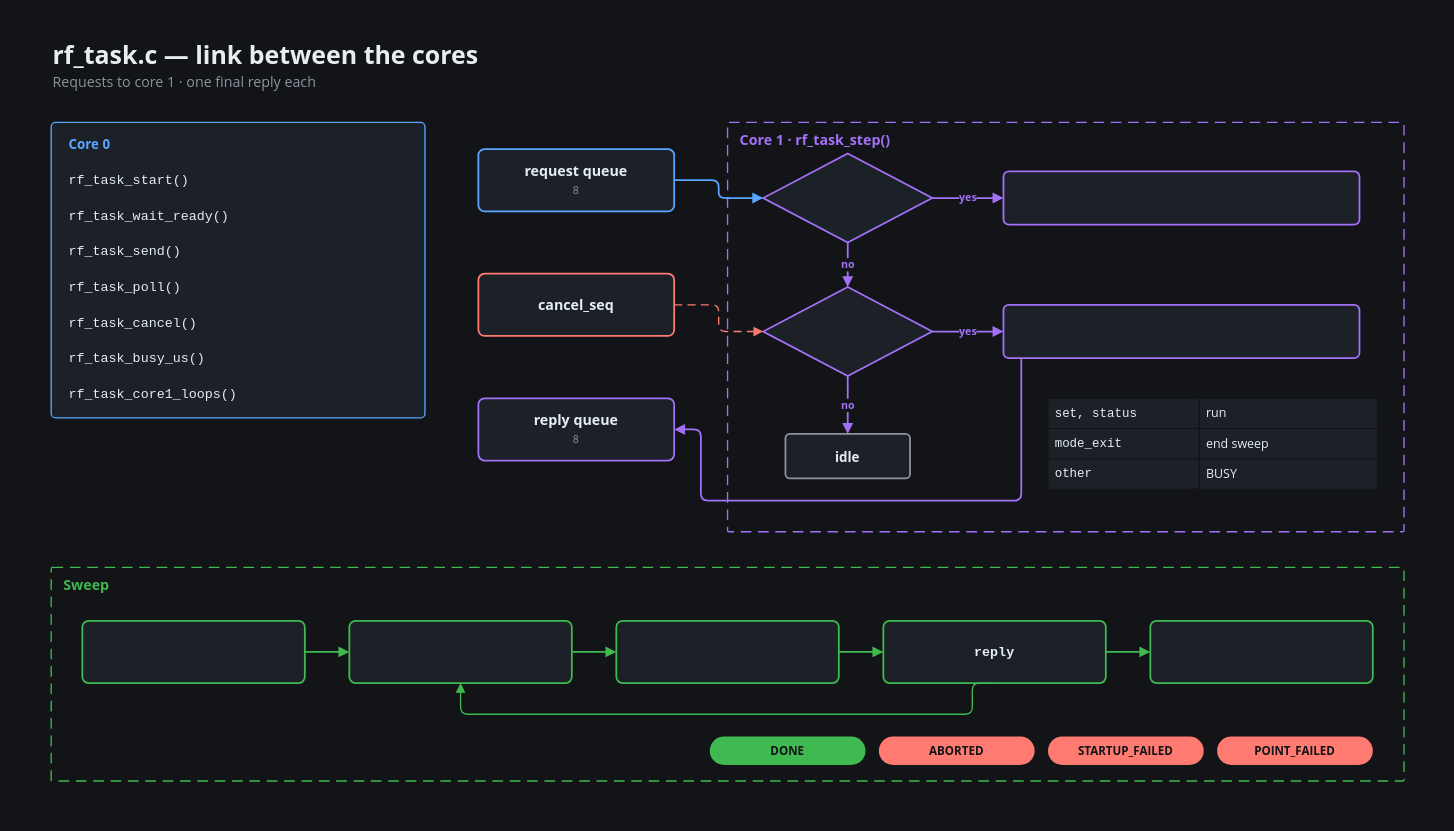
This 1454x831 diagram has some shape labels left out. The centre of each missing label's shape, as x and y in pixels:
"finish_sweep()" belongs at point (1261, 651).
"handle(req)" belongs at point (1181, 197).
"measure" belongs at point (727, 651).
"point_frequency(i)" belongs at point (460, 651).
"request?" belongs at point (847, 197).
"start_sweep()" belongs at point (193, 651).
"sweep?" belongs at point (847, 331).
"sweep_step()" belongs at point (1181, 331).
